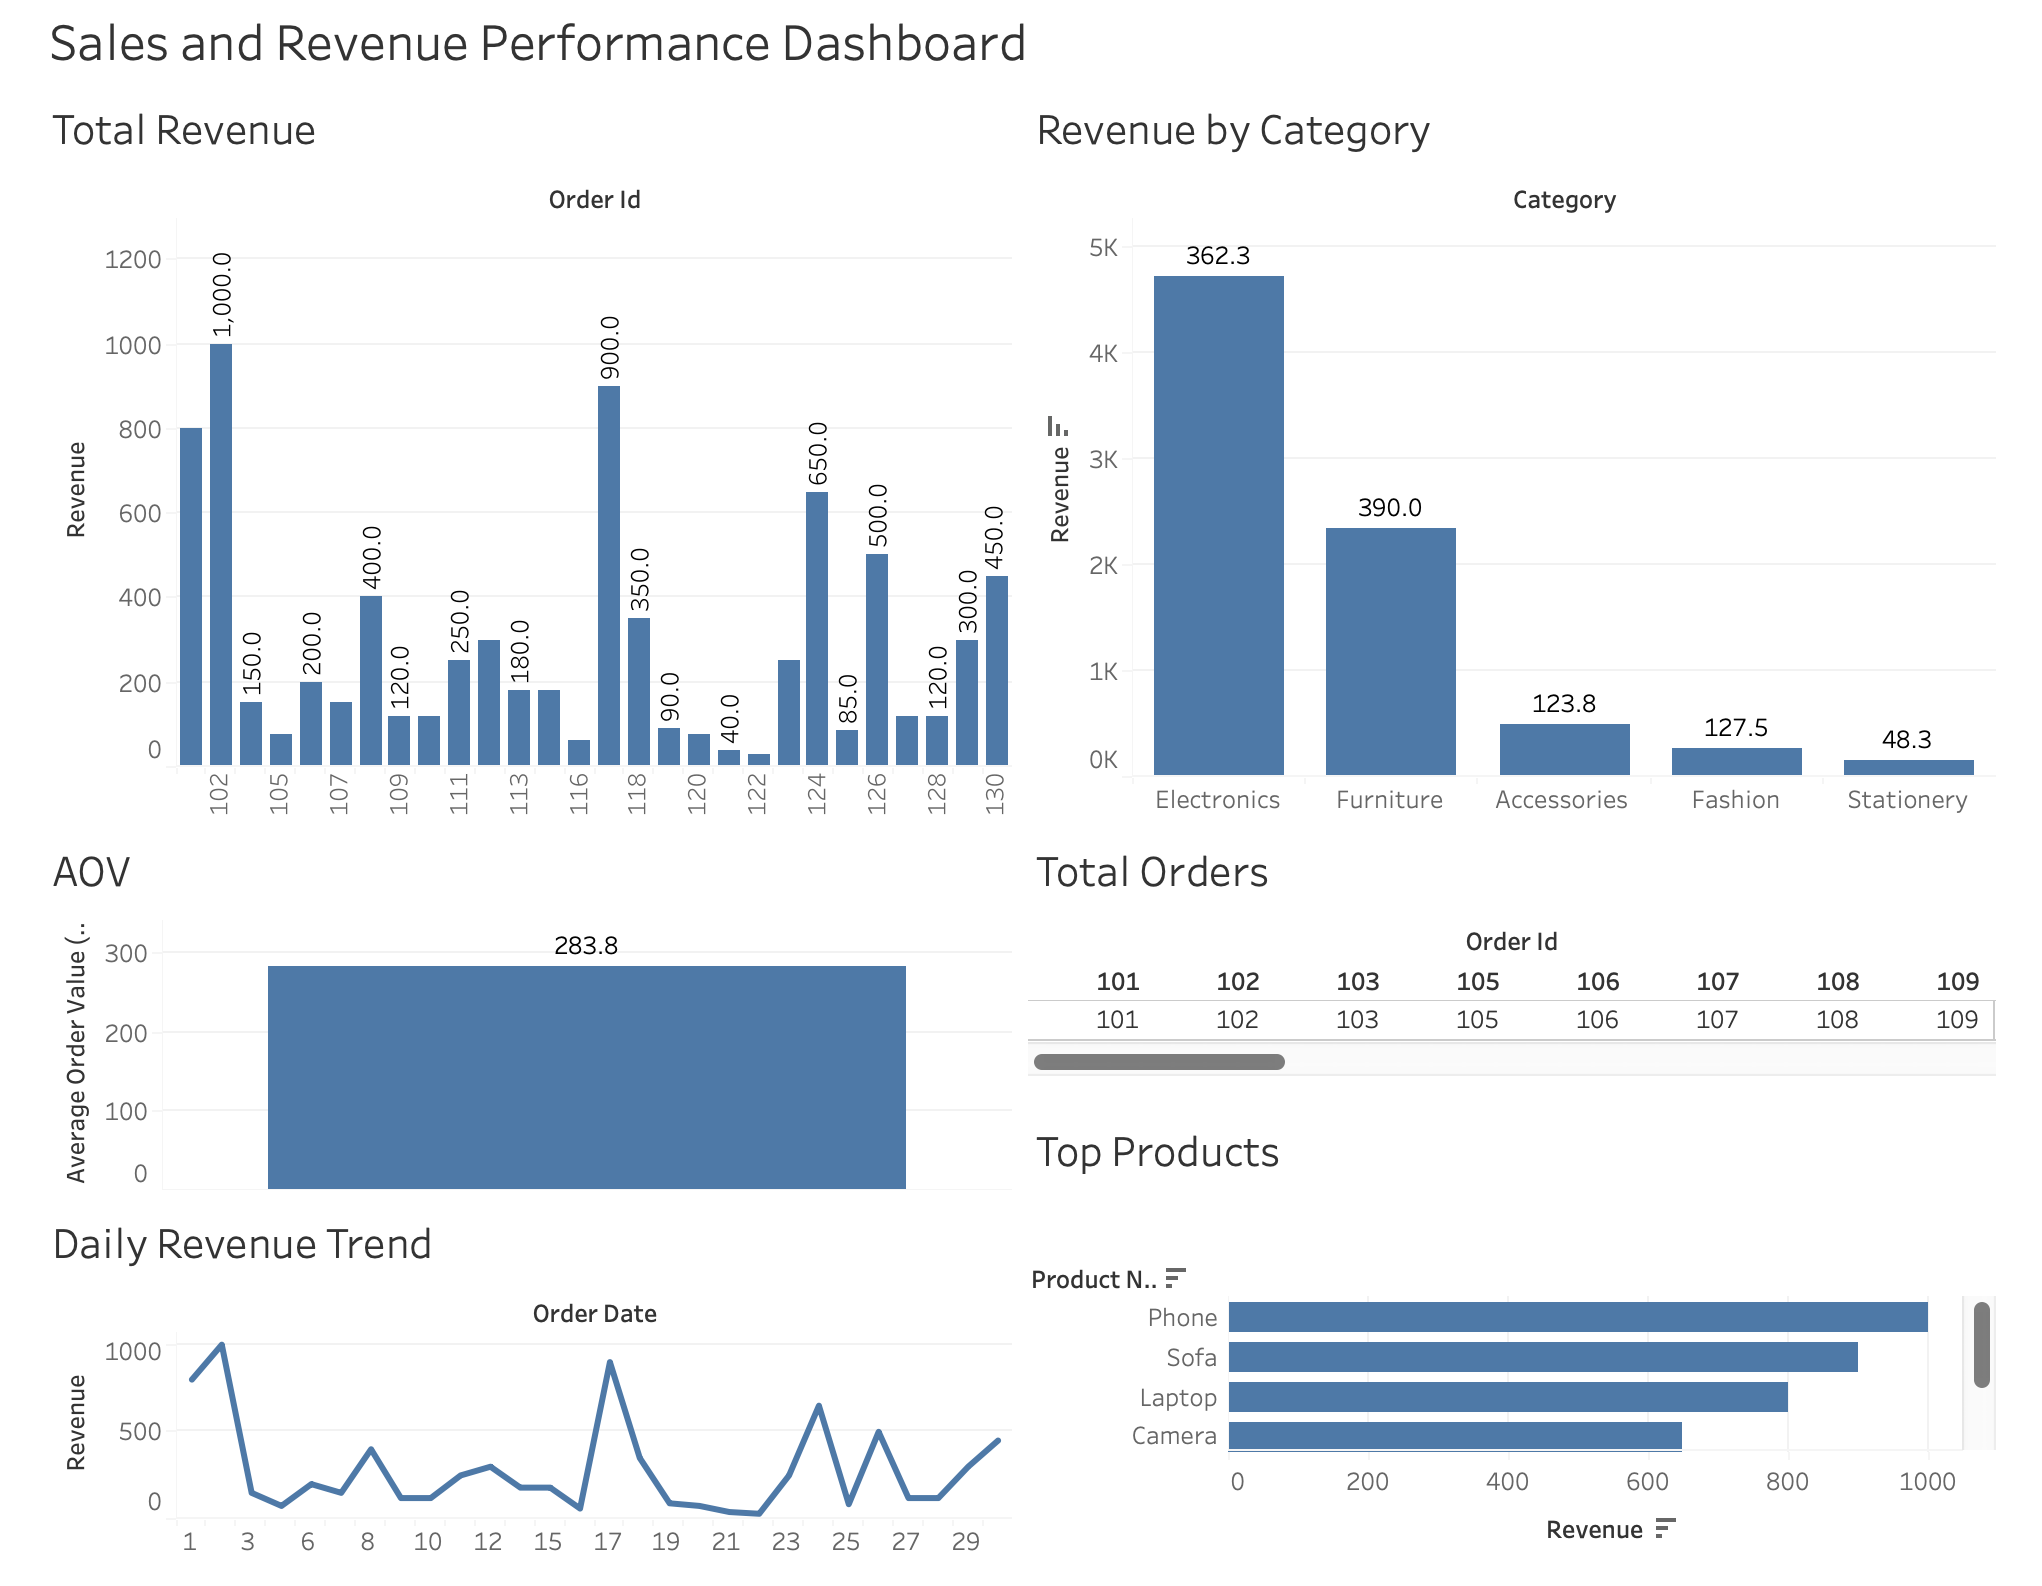

The page's visual inventory and layout, read from the dashboard file:
{"tool":"tableau","page":{"name":"Dashboard 1","canvas":[1000,800],"ordinal":0},"visuals":[{"type":"title","box":[8,8,984,42]},{"type":"worksheet","title":"Sheet 1","mark":"Automatic","rows":["revenue"],"cols":["order_id"],"box":[8,50,492,371]},{"type":"worksheet","title":"Sheet 4","mark":"Automatic","rows":["revenue"],"cols":["category"],"box":[500,50,492,371]},{"type":"worksheet","title":"Sheet 3","mark":"Automatic","rows":["Calculation_103301353264738304"],"box":[8,421,492,185.5]},{"type":"worksheet","title":"Sheet 2","mark":"Automatic","cols":["order_id"],"box":[500,421,492,140]},{"type":"worksheet","title":"Sheet 6","mark":"Automatic","rows":["product_name"],"cols":["revenue"],"box":[500,561,492,231]},{"type":"worksheet","title":"Sheet 5","mark":"Automatic","rows":["revenue"],"cols":["order_date"],"box":[8,606.5,492,185.5]}]}

Visuals, with their boxes on the page's 1000x800 design canvas (x1, y1, x2, y2). These are canvas units, not pixel positions in the 2042x1586 screenshot, which may show the page scaled, cropped or inside an application window:
title: pyautogui.locateOnScreen(8, 8, 992, 50)
"Sheet 1" worksheet: pyautogui.locateOnScreen(8, 50, 500, 421)
"Sheet 4" worksheet: pyautogui.locateOnScreen(500, 50, 992, 421)
"Sheet 3" worksheet: pyautogui.locateOnScreen(8, 421, 500, 606)
"Sheet 2" worksheet: pyautogui.locateOnScreen(500, 421, 992, 561)
"Sheet 6" worksheet: pyautogui.locateOnScreen(500, 561, 992, 792)
"Sheet 5" worksheet: pyautogui.locateOnScreen(8, 606, 500, 792)
